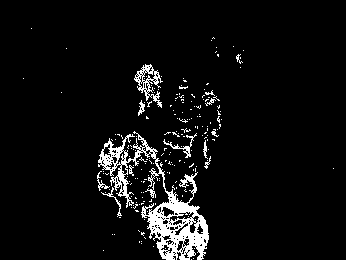person: (150, 180, 210, 260), (122, 134, 160, 217), (163, 133, 199, 197), (98, 134, 125, 218), (201, 82, 220, 169), (171, 79, 196, 123)
